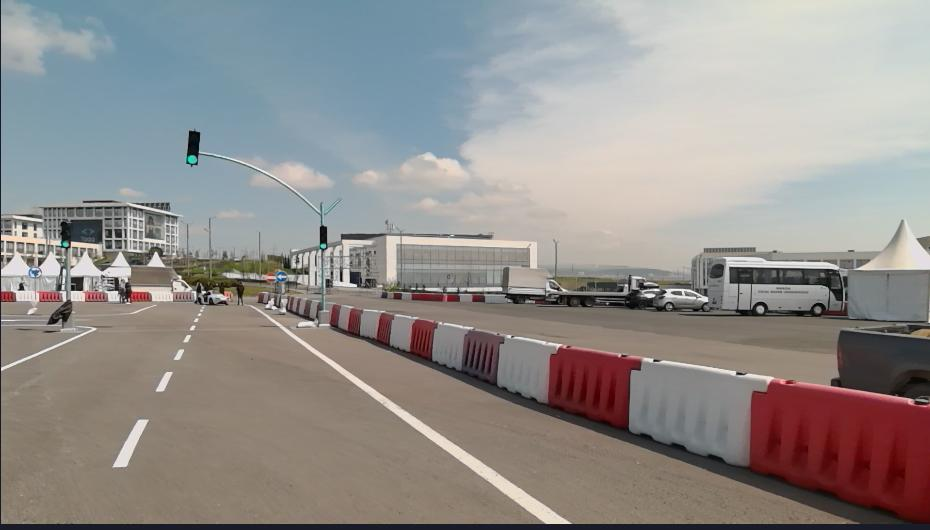nesne: (330, 303, 928, 527), (0, 300, 574, 524), (79, 301, 572, 526), (246, 304, 571, 524), (0, 300, 202, 525), (752, 378, 929, 525), (625, 353, 767, 472), (198, 151, 344, 227), (544, 341, 637, 430), (832, 320, 928, 404), (710, 256, 842, 317), (2, 322, 94, 370), (493, 332, 556, 400), (458, 328, 505, 386), (567, 277, 658, 306), (502, 265, 564, 306), (430, 321, 469, 373), (112, 416, 150, 468), (130, 264, 192, 290), (407, 317, 437, 362), (653, 288, 707, 309), (389, 313, 412, 354), (623, 290, 660, 308), (360, 309, 381, 339), (48, 300, 72, 326), (377, 311, 394, 346), (186, 129, 200, 165), (378, 291, 438, 299), (203, 288, 230, 305), (336, 304, 352, 331), (348, 306, 362, 335), (321, 250, 327, 315), (156, 372, 175, 392), (65, 247, 70, 300), (171, 290, 195, 301), (60, 222, 70, 248), (148, 290, 171, 301), (120, 277, 130, 302), (318, 225, 328, 250), (130, 291, 151, 302), (484, 293, 507, 303), (297, 319, 317, 330), (309, 298, 319, 320), (331, 304, 340, 328), (38, 291, 59, 301), (413, 292, 438, 300), (194, 281, 203, 303), (296, 298, 306, 317), (237, 279, 244, 306), (319, 312, 330, 329), (288, 297, 299, 314), (84, 292, 107, 300), (15, 290, 32, 299), (304, 298, 311, 319), (70, 289, 83, 300), (173, 345, 184, 358), (279, 299, 290, 312), (29, 266, 41, 277), (265, 298, 276, 310), (278, 280, 284, 301), (275, 270, 287, 280), (441, 283, 448, 300), (106, 292, 119, 301), (264, 271, 275, 281), (2, 291, 14, 300), (458, 294, 473, 301), (471, 293, 484, 301), (400, 292, 411, 300), (33, 278, 36, 306), (259, 292, 266, 304), (183, 331, 192, 340), (269, 282, 273, 302), (448, 293, 458, 301), (18, 279, 25, 290), (379, 291, 388, 299), (393, 292, 401, 299), (59, 291, 65, 300), (387, 292, 393, 300)
